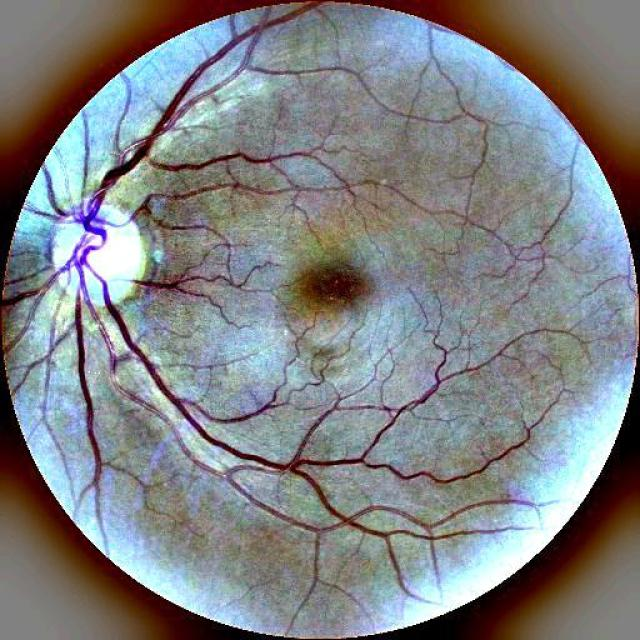Macula: (298, 254, 379, 323)
Nerves: (0, 188, 254, 498), (50, 31, 249, 296), (125, 178, 252, 257), (121, 280, 244, 325), (42, 293, 64, 410), (10, 294, 42, 355), (75, 119, 92, 194), (40, 170, 61, 215)
Optic Disk: (44, 195, 144, 299)
